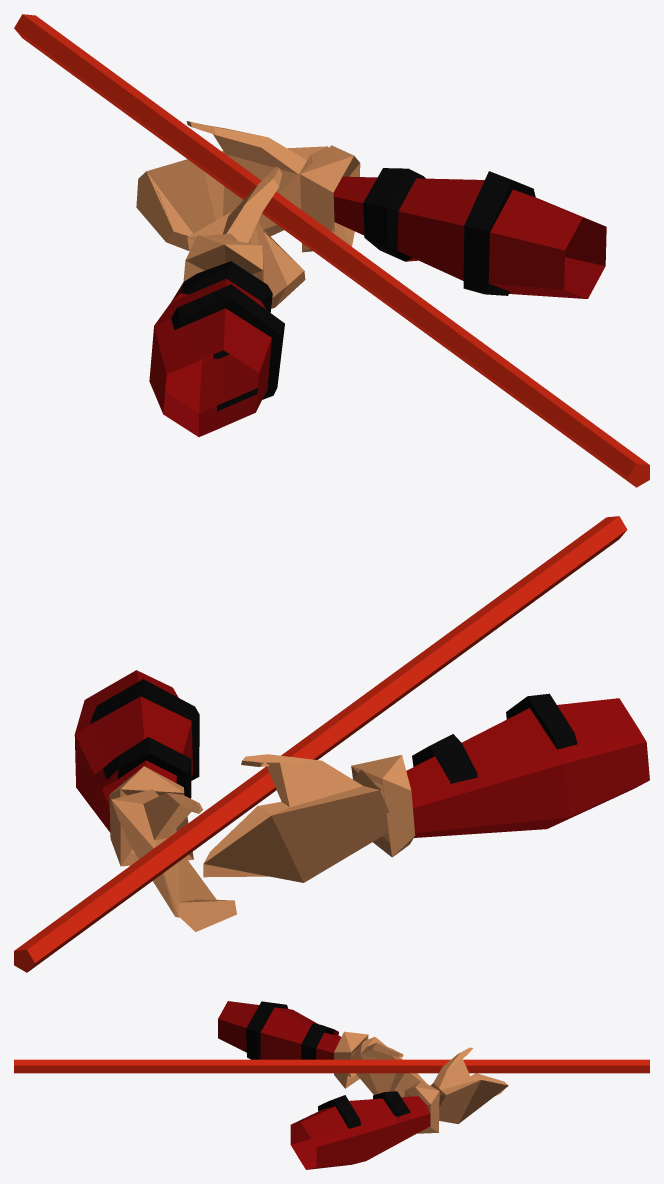
Rendered from arm.fbx.
The picture shows the model from 3 angles, top to bottom: view 1: azimuth 30°, elevation 25°; view 2: azimuth 150°, elevation 25°; view 3: azimuth 270°, elevation 25°; orthographic projection. The views are drawn at different scales.
Visible parts, largest first — view 1: Cylinder.004; view 2: Cylinder.004; view 3: Cylinder.004.
Boxes of the visible parts, x1,y1,x2,y2 form: Cylinder.004: (14,14,649,487); Cylinder.004: (14,516,649,972); Cylinder.004: (14,1001,649,1169).
Bounding box in the file's own units: 299 × 81.6 × 617.
